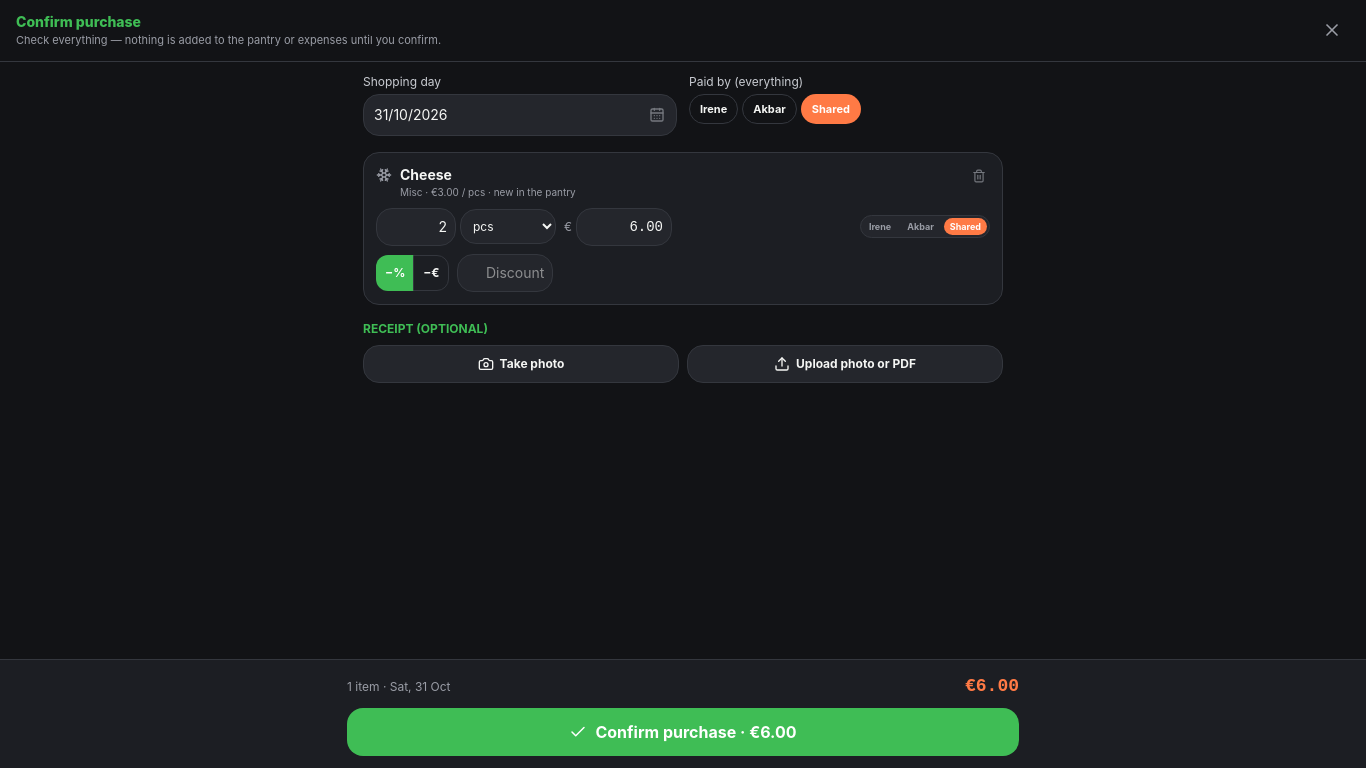
Test: confirming a purchase › will not confirm while a number is wrong, and keeps what was typed
The width and height of the screenshot is (1366, 768).
Check: the button "Confirm purchase · €6.00" is enabled, box x1=347 y1=708 x2=1019 y2=756
Replace the text in the field named "Total for Cheese" with "13,6,0" at {"x": 624, "y": 226}, box x1=576 y1=208 x2=672 y2=246
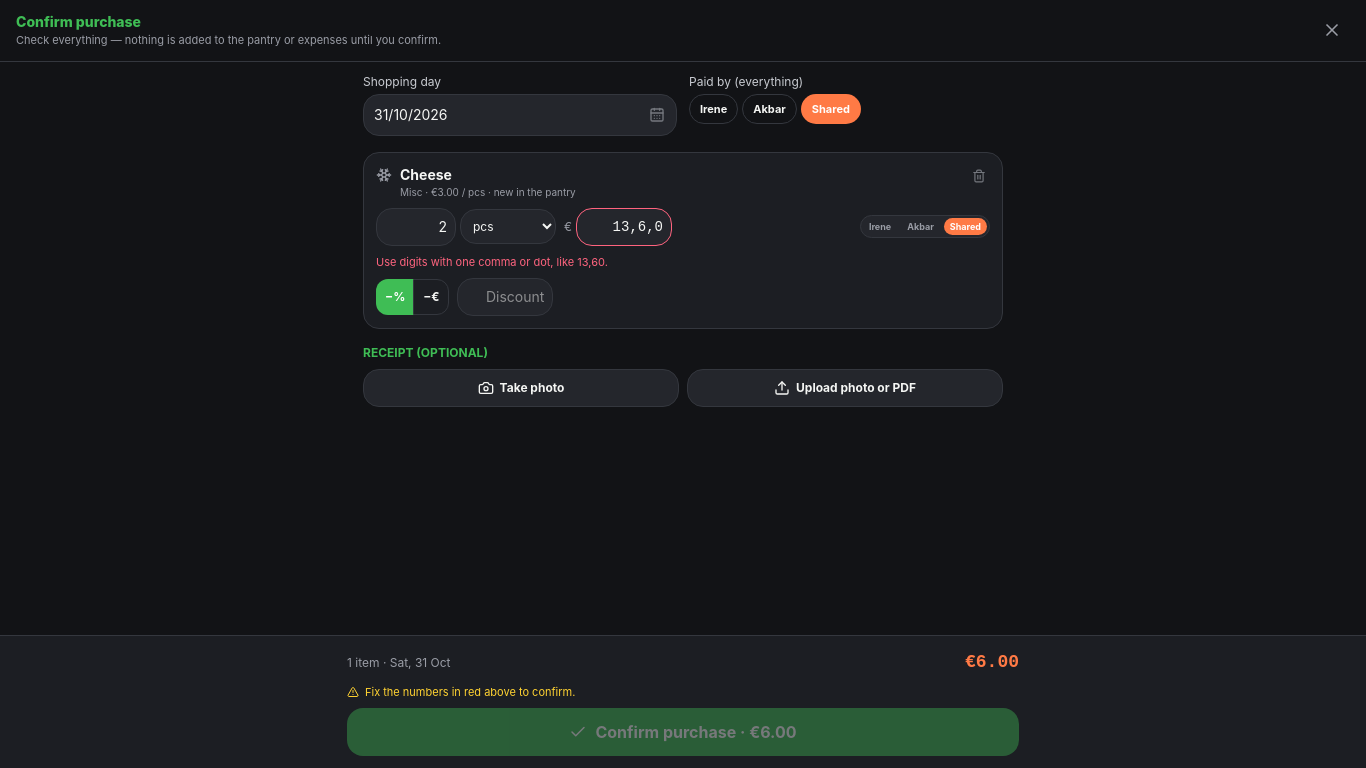
Check: the message reads "Use digits with one comma or dot, like 13,60.", box x1=376 y1=254 x2=608 y2=268
Check: the button "Confirm purchase · €6.00" is disabled, box x1=347 y1=708 x2=1019 y2=756
Leave the field named "Total for Cheese", box x1=576 y1=208 x2=672 y2=246
Replace the text in the field named "Total for Cheese" with "13,60" at {"x": 624, "y": 226}, box x1=576 y1=208 x2=672 y2=246
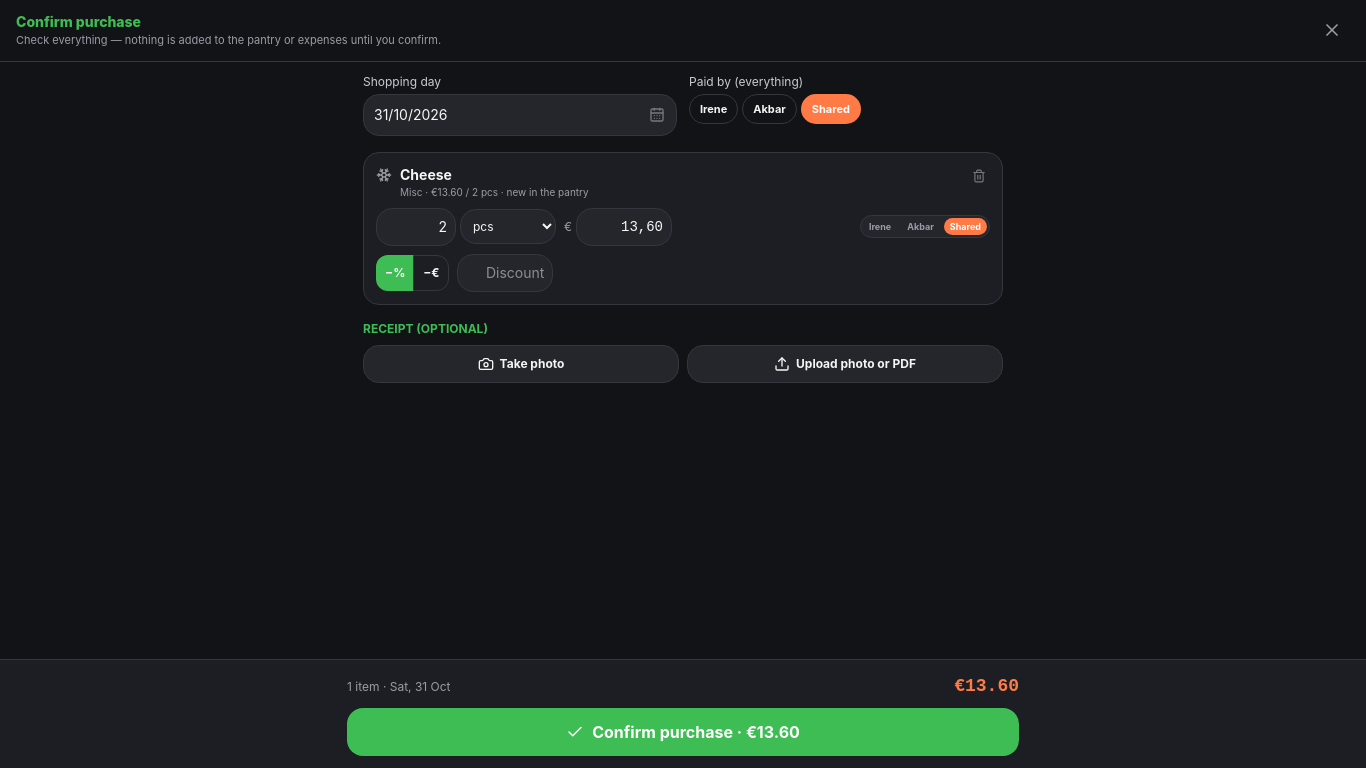
Check: the button "Confirm purchase · €13.60" is enabled, box x1=347 y1=708 x2=1019 y2=756
Replace the text in the field named "Quantity of Cheese" with "2a" at {"x": 416, "y": 226}, box x1=376 y1=208 x2=456 y2=246
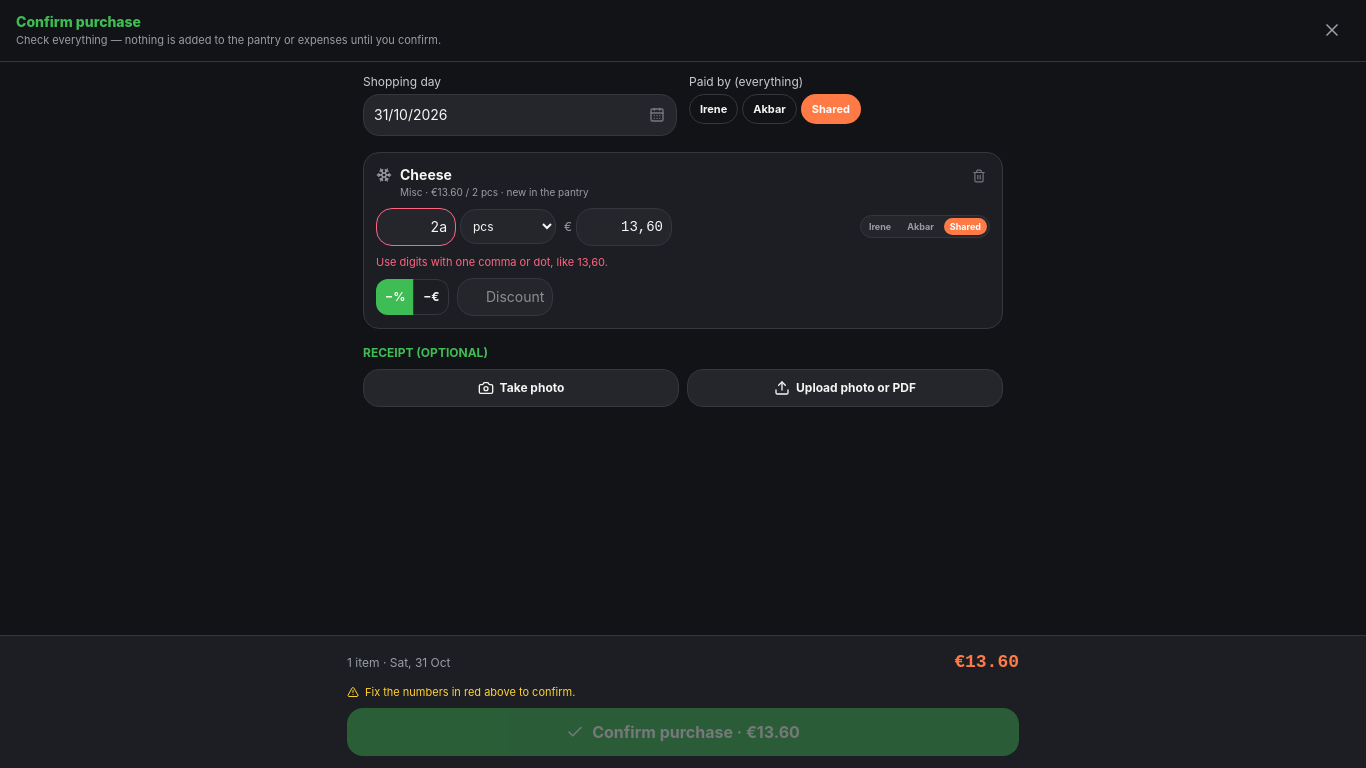
Check: the button "Confirm purchase · €13.60" is disabled, box x1=347 y1=708 x2=1019 y2=756
